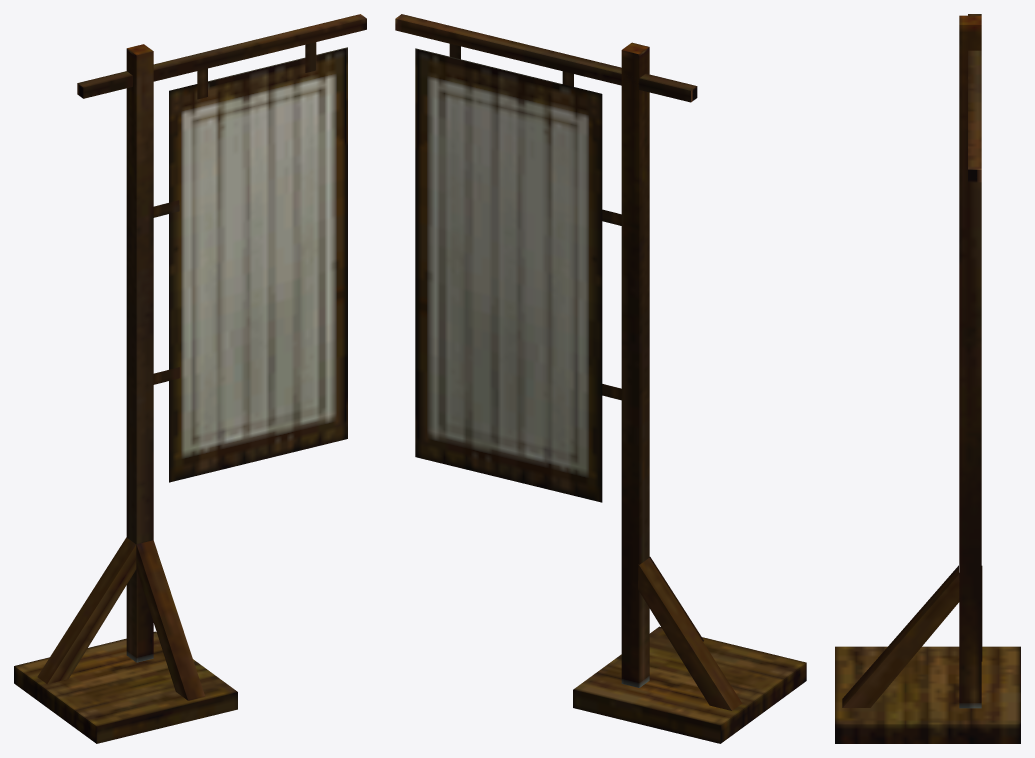
Rendered from ob-standganpan-04.fbx.
The picture shows the model from 3 angles, left to right: view 1: azimuth 30°, elevation 25°; view 2: azimuth 150°, elevation 25°; view 3: azimuth 270°, elevation 25°; orthographic projection. The views are drawn at different scales.
Parts seen in each view (by area): view 1: Box01; view 2: Box01; view 3: Box01.
Part boxes in pixels (x1,y1,x2,y2): Box01: (14,14,366,743); Box01: (395,14,806,743); Box01: (835,14,1020,743).
Bounding box in the file's own units: 1.53 × 2.78 × 0.6658.
